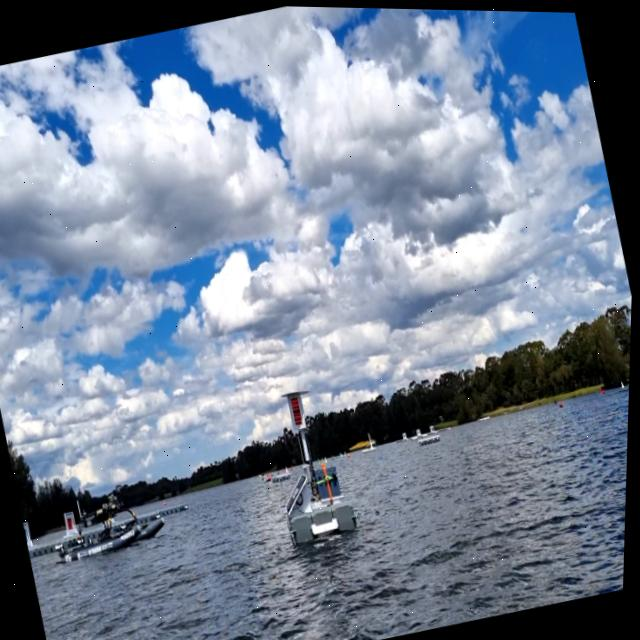led: (290, 392, 307, 427)
